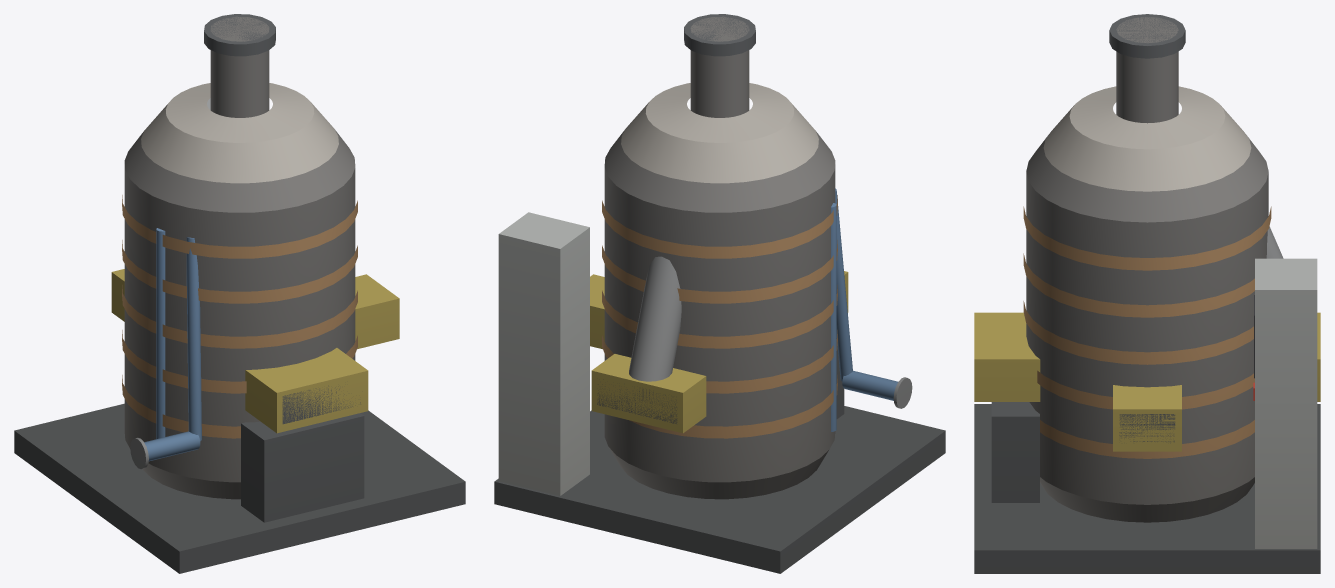
Rendered from mcFurnace_steel.glb.
3 views of the same model, side by side, from view 1: azimuth 30°, elevation 25°; view 2: azimuth 150°, elevation 25°; view 3: azimuth 270°, elevation 25° (orthographic). The views are drawn at different scales.
Parts seen in each view (by area): view 1: mcFurnace_steel; view 2: mcFurnace_steel; view 3: mcFurnace_steel.
Part boxes in pixels (x1,y1,x2,y2): mcFurnace_steel: (14,14,465,573); mcFurnace_steel: (494,14,945,573); mcFurnace_steel: (974,14,1320,573).
Size of the model in its own units: 2 by 3 by 2.
